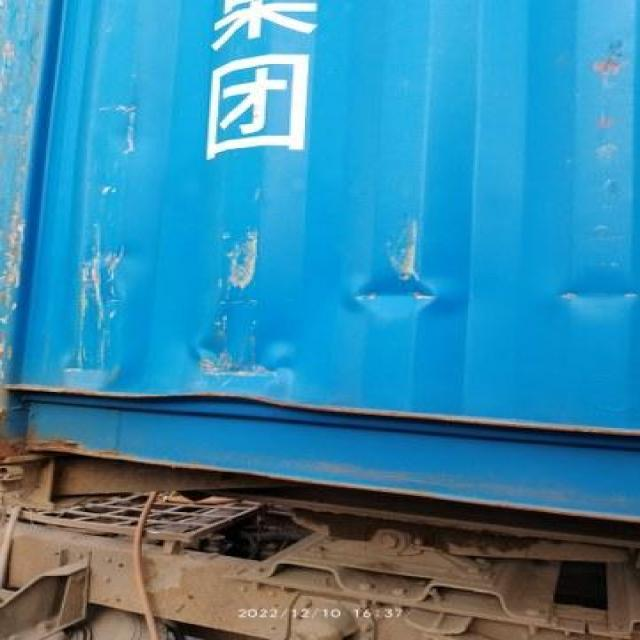Minor-Dent: (346, 270, 441, 309), (190, 352, 292, 383), (553, 283, 640, 307)
